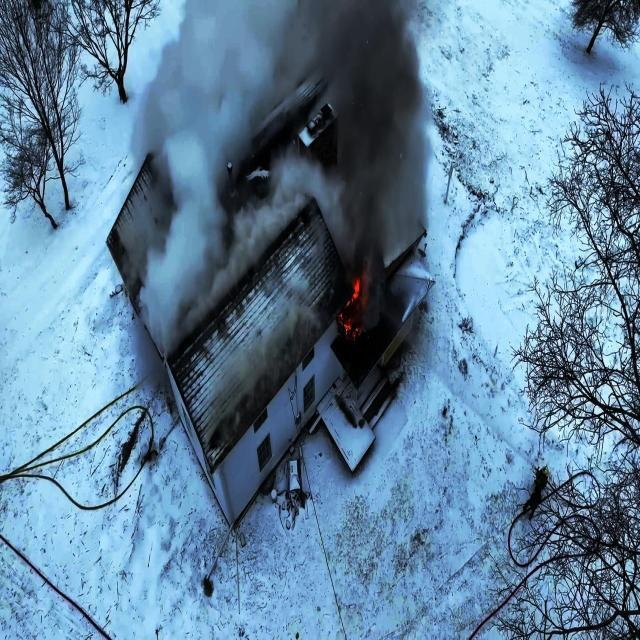Fire: (337, 262, 370, 330)
Smoke: (340, 0, 403, 221), (230, 5, 382, 94)
